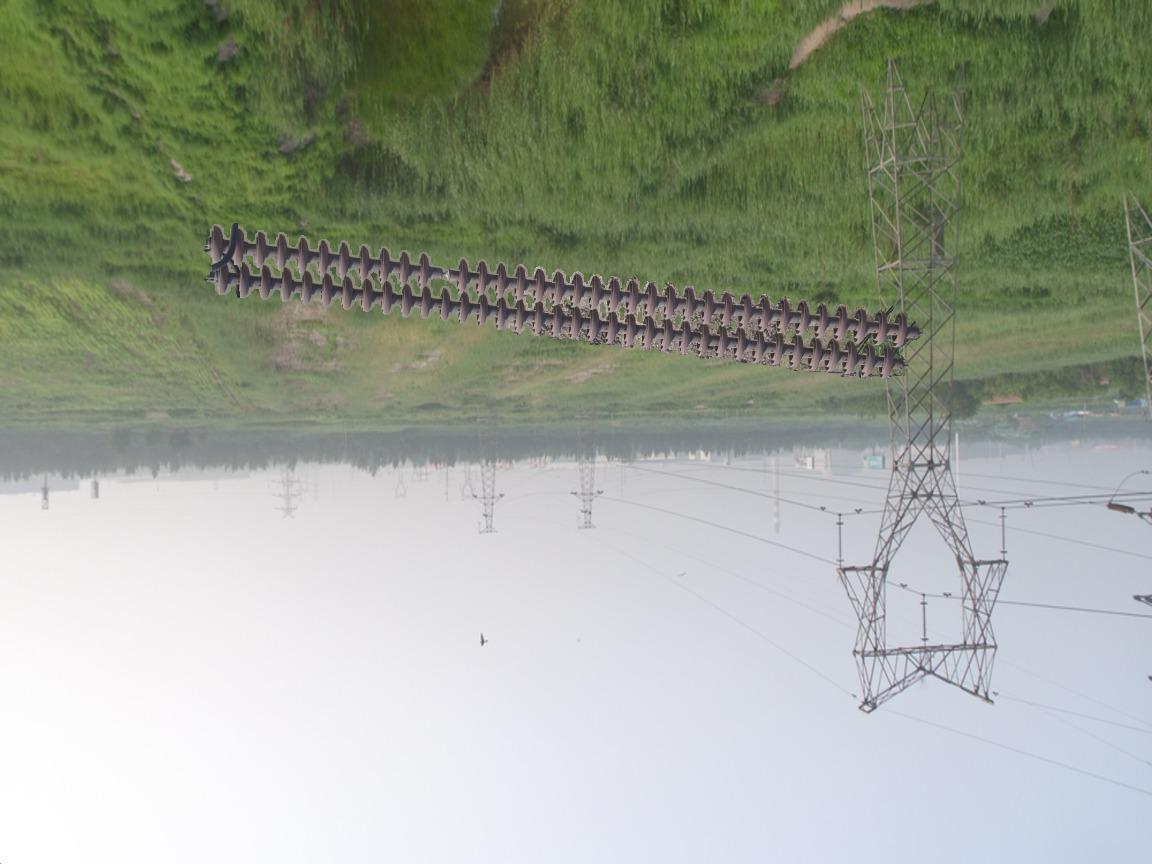insulator: (196, 221, 922, 389)
insulator_stringdrop: (414, 250, 473, 295)
